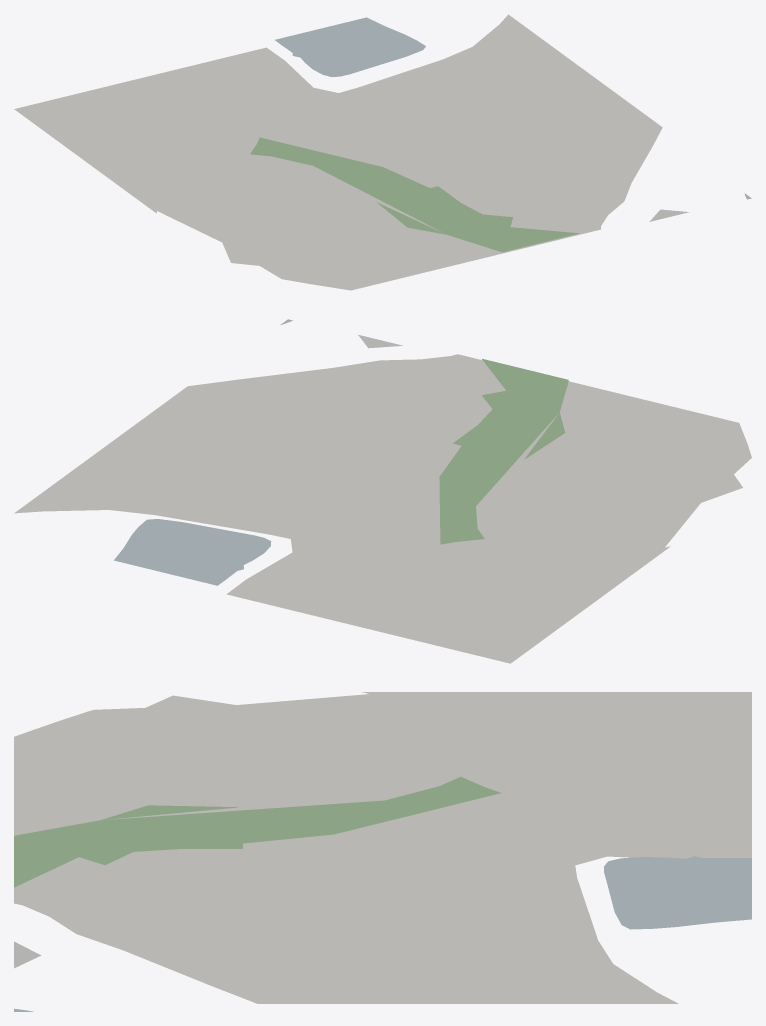
Rendered from 132_121_mid.glb.
3 views of the same model, one above another, from view 1: azimuth 30°, elevation 25°; view 2: azimuth 150°, elevation 25°; view 3: azimuth 270°, elevation 25° (orthographic). The views are drawn at different scales.
Size of the model in its own units: 500 by 11.67 by 500.
